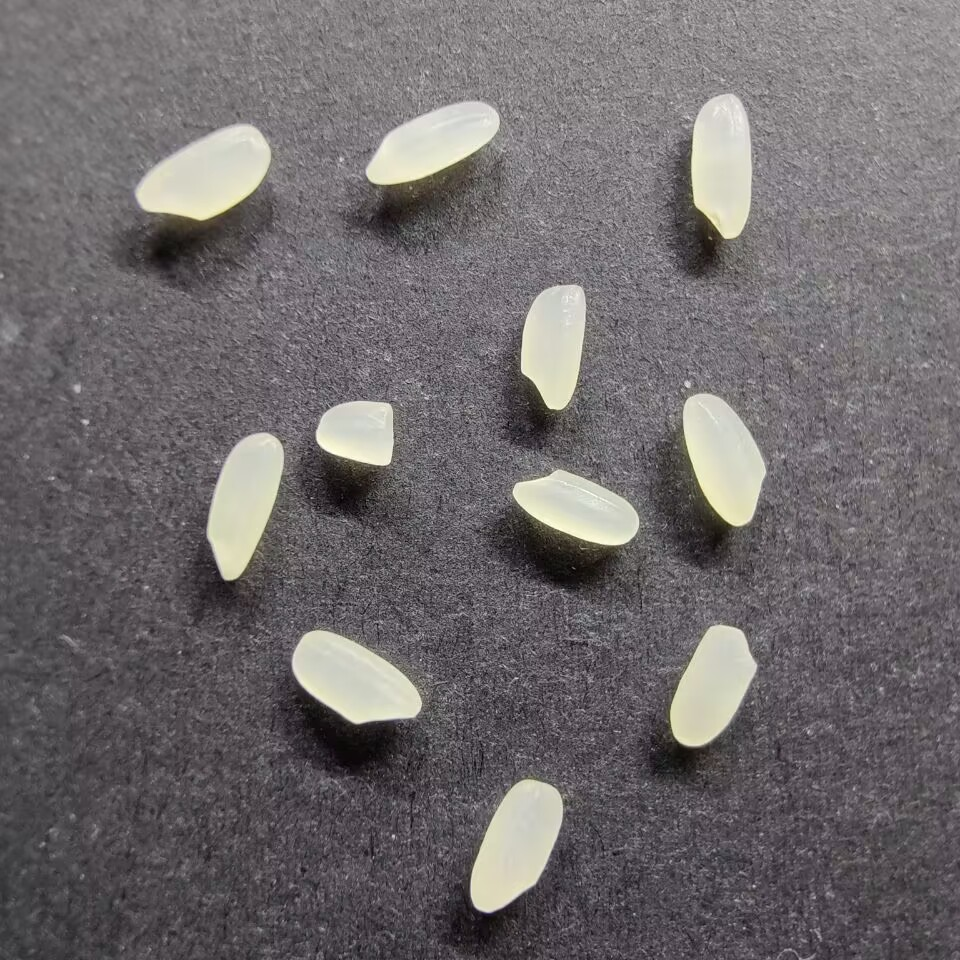broken: (314, 399, 396, 469)
rice: (133, 123, 271, 222), (468, 777, 563, 914), (289, 628, 423, 725), (362, 99, 501, 186), (204, 430, 284, 581), (680, 390, 767, 528), (668, 623, 761, 748), (511, 469, 640, 547), (689, 93, 754, 240), (518, 283, 586, 410)
